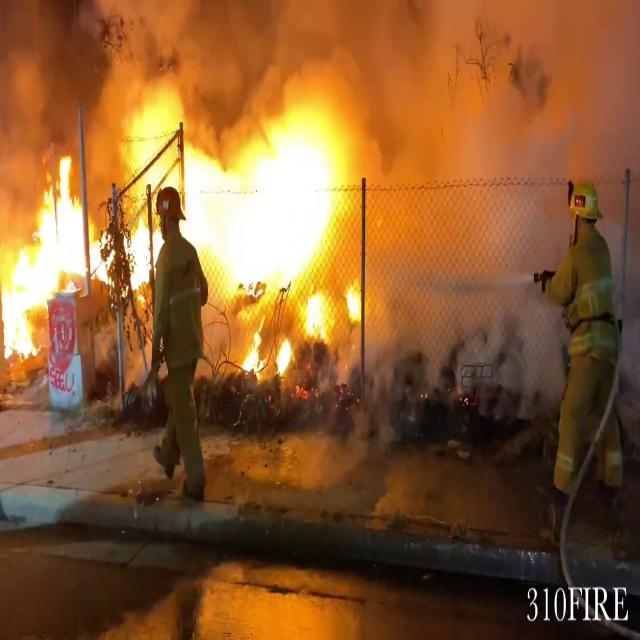Fire: (0, 82, 365, 336)
Smoke: (341, 0, 640, 383), (0, 0, 128, 182)
